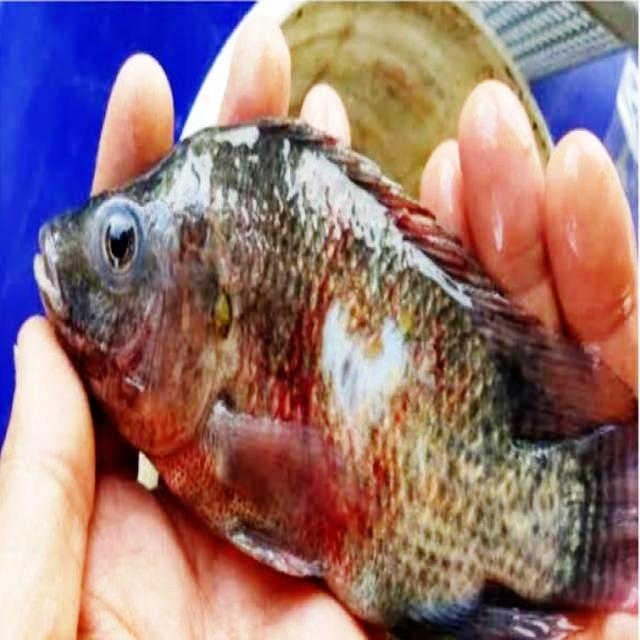Tilapia Lake Virus -TiLV-: (34, 119, 637, 639)
